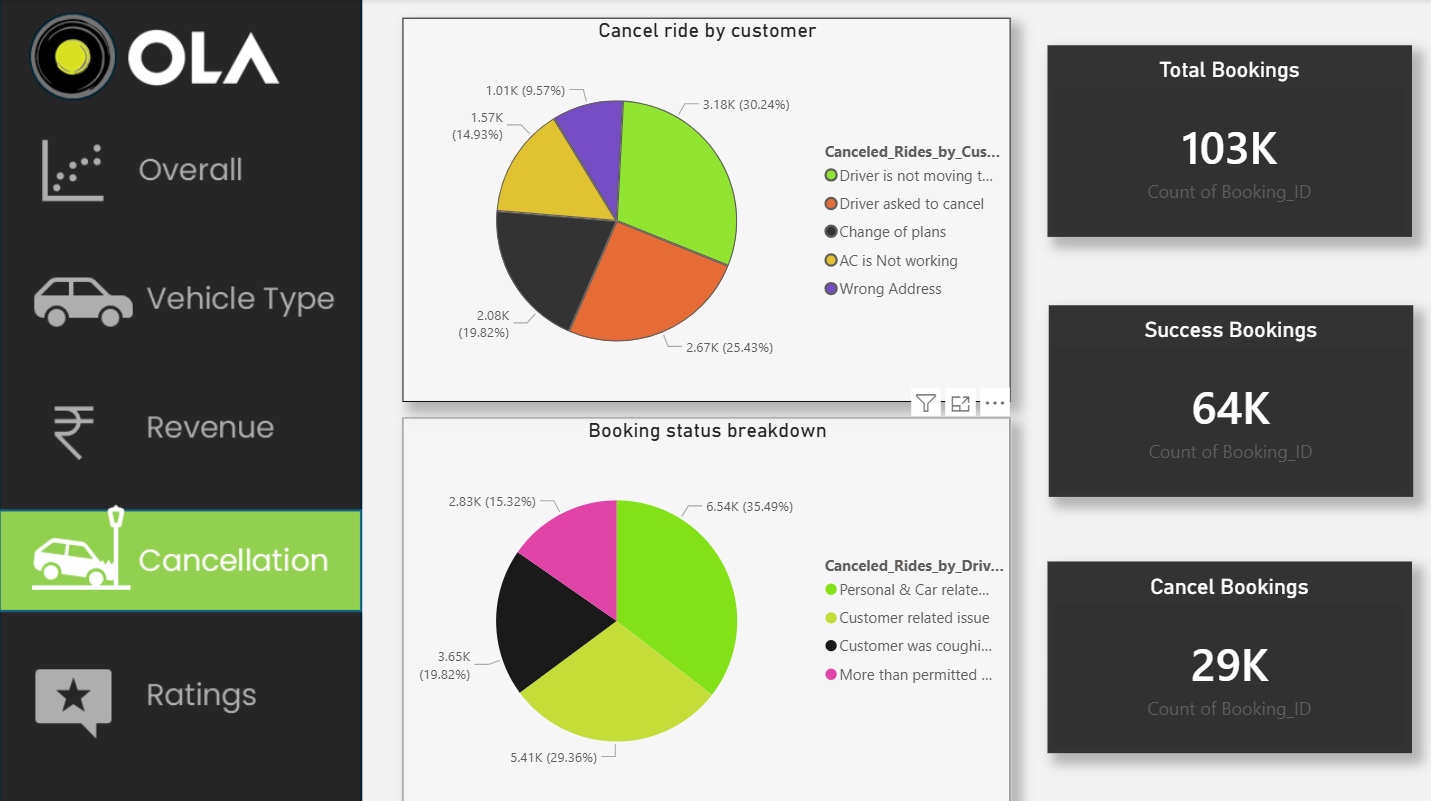

This screenshot's page, from the dashboard's own definition file:
{"tool":"powerbi","page":{"name":"cancellation","canvas":[1280,720],"ordinal":3},"visuals":[{"type":"actionButton","box":[0,112.8,323.8,83.7],"z":0},{"type":"actionButton","box":[0,230,324.9,90.4],"z":1000},{"type":"actionButton","box":[0,339.5,324.9,90.4],"z":2000},{"type":"actionButton","box":[0,582.9,324.9,90.4],"z":3000},{"type":"pieChart","title":"Cancel ride by customer","fields":{"Category":["July (2).Canceled_Rides_by_Customer"],"Y":["CountNonNull(July (2).Booking_ID)"]},"box":[359.5,16.5,543.4,343.1],"z":4000},{"type":"pieChart","title":"Booking status breakdown","fields":{"Category":["July (2).Canceled_Rides_by_Driver"],"Y":["CountNonNull(July (2).Booking_ID)"]},"box":[359.5,374.6,543.4,343.1],"z":5000},{"type":"cardVisual","title":"Total Bookings","fields":{"Data":["CountNonNull(July (2).Booking_ID)"]},"box":[935.9,41.2,325.2,171.5],"z":6000},{"type":"cardVisual","title":"Success  Bookings","fields":{"Data":["CountNonNull(July (2).Booking_ID)"]},"box":[937.2,273.1,325.2,171.5],"z":7000},{"type":"cardVisual","title":"Cancel  Bookings","fields":{"Data":["CountNonNull(July (2).Booking_ID)"]},"box":[935.9,502.2,325.2,171.5],"z":8000}]}

Visuals, with their boxes on the page's 1280x720 design canvas (x1, y1, x2, y2). These are canvas units, not pixel positions in the 1431x801 screenshot, which may show the page scaled, cropped or inside an application window:
actionButton: bbox=[0, 113, 324, 196]
actionButton: bbox=[0, 230, 325, 320]
actionButton: bbox=[0, 340, 325, 430]
actionButton: bbox=[0, 583, 325, 673]
"Cancel ride by customer" pieChart: bbox=[360, 16, 903, 360]
"Booking status breakdown" pieChart: bbox=[360, 375, 903, 718]
"Total Bookings" cardVisual: bbox=[936, 41, 1261, 213]
"Success  Bookings" cardVisual: bbox=[937, 273, 1262, 445]
"Cancel  Bookings" cardVisual: bbox=[936, 502, 1261, 674]
